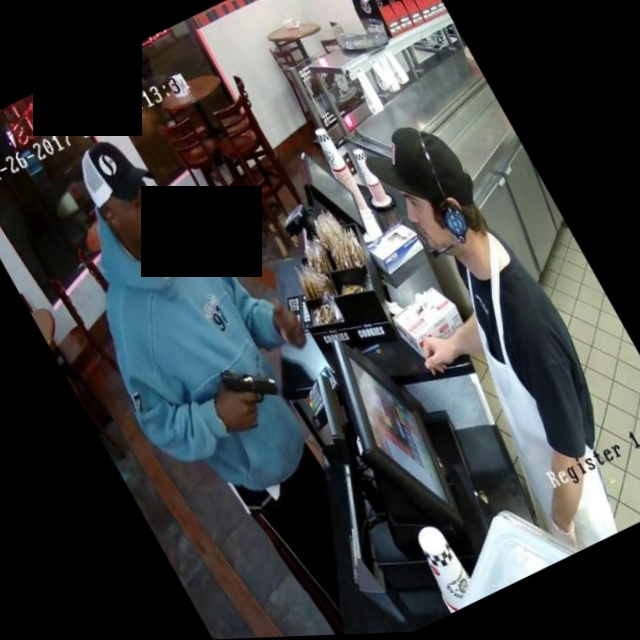gun: (195, 338, 296, 436)
